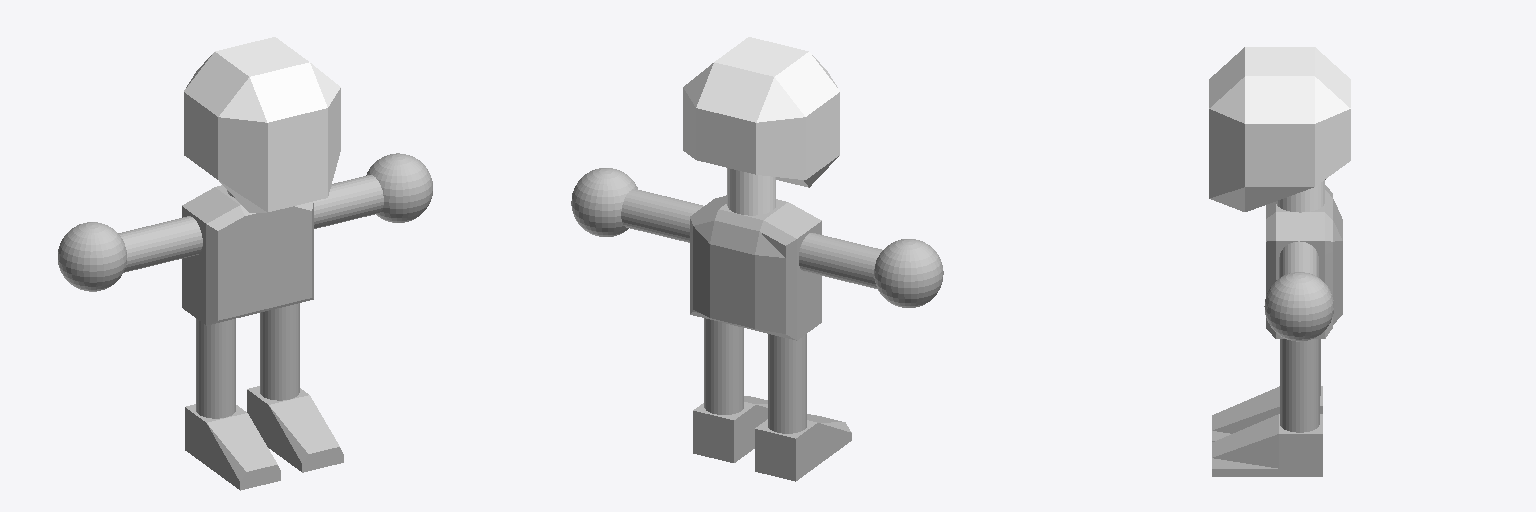
File: body.obj
3 renders of one model, left to right at view 1: azimuth 30°, elevation 25°; view 2: azimuth 150°, elevation 25°; view 3: azimuth 270°, elevation 25°, orthographic.
Parts seen in each view (by area): view 1: Cylinder.002; view 2: Cylinder.002; view 3: Cylinder.002.
Part boxes in pixels (x1,y1,x2,y2): Cylinder.002: (58, 37, 432, 490); Cylinder.002: (571, 37, 943, 481); Cylinder.002: (1209, 47, 1350, 476).
Bounding box in the file's own units: 7.05 × 7.3 × 2.37.